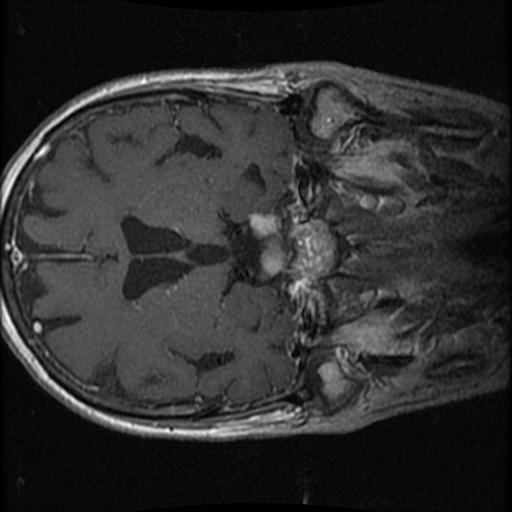pituitary tumour: (247, 210, 286, 277)
